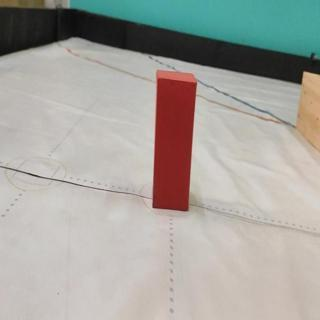redbox: (153, 68, 196, 212)
